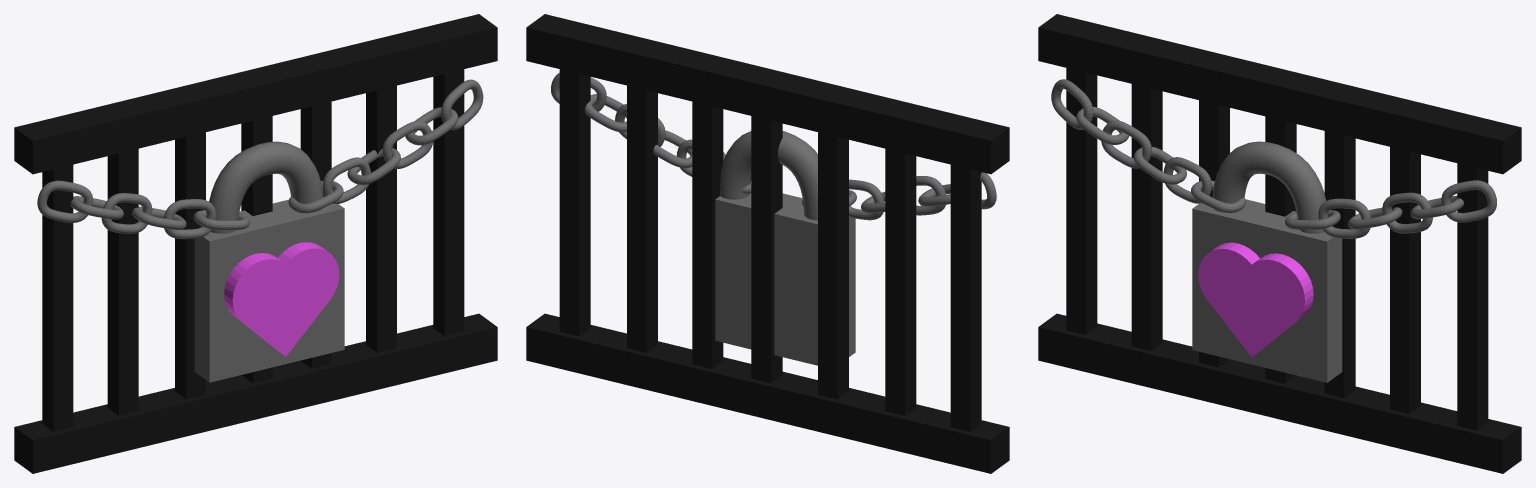
Rendered from NewCage_Heart_C.fbx.
The picture shows the model from 3 angles, left to right: view 1: azimuth 30°, elevation 25°; view 2: azimuth 150°, elevation 25°; view 3: azimuth 330°, elevation 25°; orthographic projection.
Parts seen in each view (by area): view 1: Cube.007, Cube.008, Cube.009, Cylinder.002, Cylinder.003, Cube.004, Cube.005, Cube.003, Cube.002, Cube.006, Cylinder, Cube.001 (+1 smaller); view 2: Cube.007, Cube.008, Cube.009, Cube.005, Cube.004, Cube.003, Cube.006, Cube.002, Cube.001, Cube, Cylinder.002, Cylinder; view 3: Cube.007, Cube.008, Cube.009, Cylinder.002, Cylinder.003, Cube.003, Cube.005, Cube.004, Cube.002, Cube.001, Cylinder, Cube.006 (+1 smaller).
Boxes of the visible parts, box(x1,y1,x2,y2) form: Cube.007: box(14, 14, 497, 174); Cube.008: box(14, 313, 497, 473); Cube.009: box(194, 199, 344, 382); Cylinder.002: box(37, 79, 483, 239); Cylinder.003: box(224, 242, 339, 356); Cube.004: box(42, 164, 73, 431); Cube.005: box(107, 148, 138, 415); Cube.003: box(433, 69, 464, 336); Cube.002: box(366, 85, 396, 352); Cube.006: box(175, 132, 205, 399); Cylinder: box(209, 141, 323, 233); Cube.001: box(300, 101, 331, 368); Cube.007: box(526, 14, 1009, 174); Cube.008: box(526, 313, 1009, 473); Cube.009: box(715, 193, 855, 365); Cube.005: box(885, 148, 916, 415); Cube.004: box(950, 164, 981, 431); Cube.003: box(559, 69, 590, 336); Cube.006: box(818, 132, 848, 399); Cube.002: box(627, 85, 657, 352); Cube.001: box(692, 101, 723, 368); Cube: box(751, 116, 782, 383); Cylinder.002: box(551, 73, 996, 220); Cylinder: box(720, 131, 817, 220); Cube.007: box(1038, 14, 1521, 174); Cube.008: box(1038, 313, 1521, 473); Cube.009: box(1192, 199, 1342, 382); Cylinder.002: box(1051, 79, 1496, 238); Cylinder.003: box(1198, 242, 1313, 356); Cube.003: box(1457, 163, 1488, 430); Cube.005: box(1131, 84, 1162, 350); Cube.004: box(1066, 68, 1097, 334); Cube.002: box(1390, 147, 1420, 413); Cube.001: box(1324, 131, 1355, 397); Cylinder: box(1212, 141, 1326, 233); Cube.006: box(1199, 100, 1229, 367).
Size of the model in its own units: 865 by 592 by 124.
